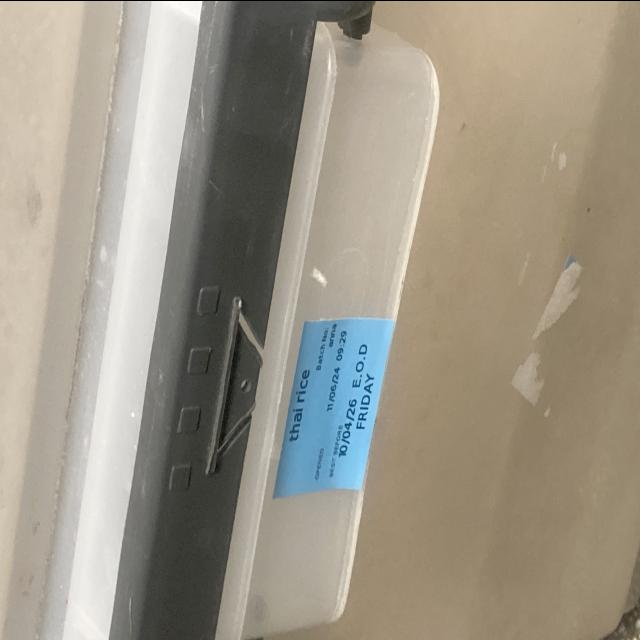product-labels: (273, 309, 397, 500)
